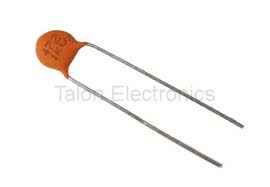ceramic capacitor: (18, 13, 109, 91)
